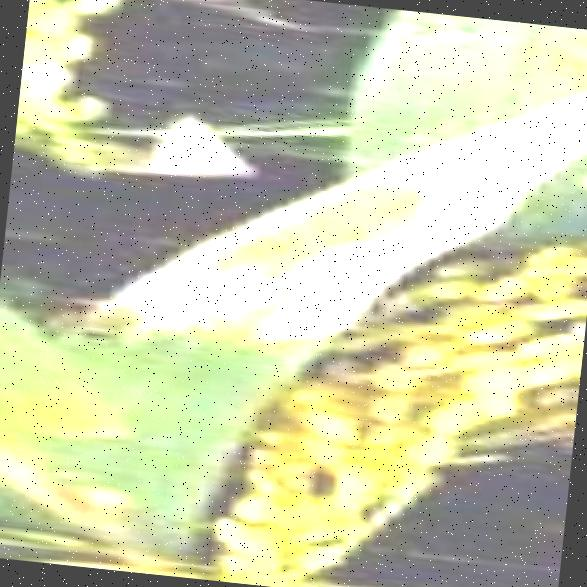Bacteria_Leaf_Blight: (76, 98, 433, 557)
